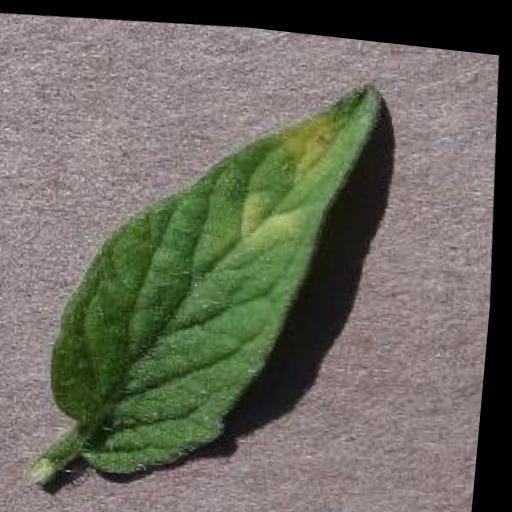Leaf Mold: (34, 48, 409, 497)
